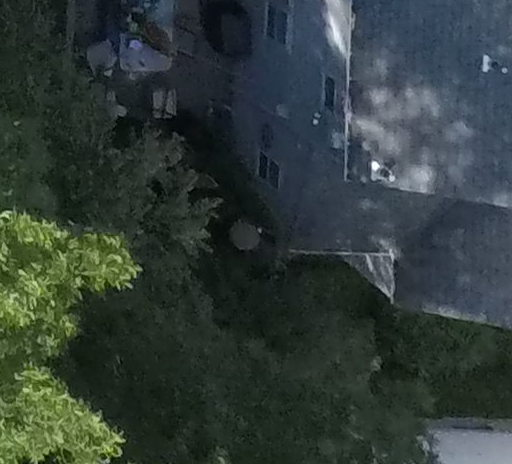table: (100, 1, 179, 76)
